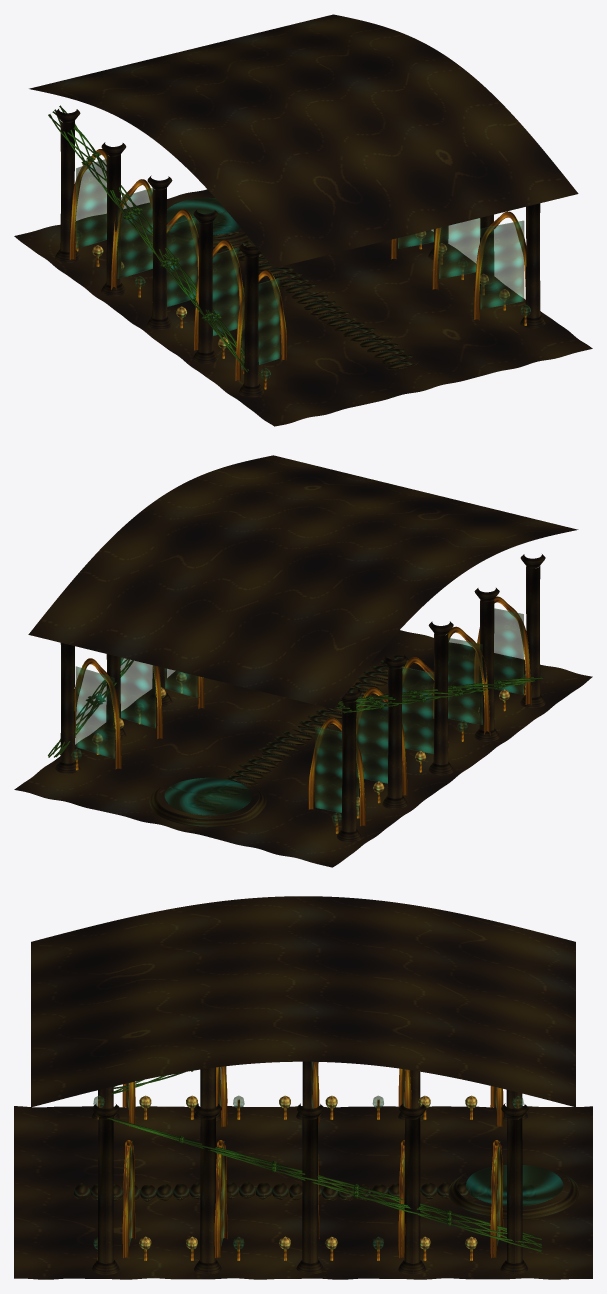
File: shadow-hall-hero-v2.glb
The picture shows the model from 3 angles, top to bottom: view 1: azimuth 30°, elevation 25°; view 2: azimuth 150°, elevation 25°; view 3: azimuth 270°, elevation 25°; orthographic projection. The views are drawn at different scales.
Parts seen in each view (by area): view 1: shadow-vault, shadow-basalt-floor, shadow-memory-glass-right-4, shadow-memory-glass-left-1, shadow-memory-glass-left-0, shadow-memory-glass-left-2, shadow-memory-glass-left-4, shadow-memory-glass-right-3, shadow-memory-glass-left-3, shadow-left-column-4-shaft, shadow-left-column-2-shaft, shadow-left-column-3-shaft (+11 smaller); view 2: shadow-vault, shadow-basalt-floor, shadow-memory-glass-right-0, shadow-basin-water, shadow-memory-glass-left-3, shadow-memory-glass-left-0, shadow-memory-glass-left-2, shadow-memory-glass-left-1, shadow-memory-glass-left-4, shadow-memory-glass-right-1, shadow-left-column-1-shaft, shadow-left-column-2-shaft (+12 smaller); view 3: shadow-vault, shadow-basalt-floor, shadow-right-column-1-shaft, shadow-right-column-4-shaft, shadow-right-column-0-shaft, shadow-right-column-2-shaft, shadow-right-column-3-shaft, shadow-basin-water, shadow-basin, shadow-memory-frame-right-4, shadow-memory-frame-right-0, shadow-memory-frame-right-3 (+11 smaller).
Part boxes in pixels (x1,y1,x2,y2): shadow-vault: (29, 14, 578, 268); shadow-basalt-floor: (14, 189, 592, 426); shadow-memory-glass-right-4: (480, 220, 524, 309); shadow-memory-glass-left-1: (117, 188, 154, 278); shadow-memory-glass-left-0: (76, 159, 106, 248); shadow-memory-glass-left-2: (166, 218, 197, 306); shadow-memory-glass-left-4: (241, 278, 280, 369); shadow-memory-glass-right-3: (439, 218, 480, 278); shadow-memory-glass-left-3: (212, 247, 238, 335); shadow-left-column-4-shaft: (244, 255, 258, 386); shadow-left-column-2-shaft: (152, 188, 167, 319); shadow-left-column-3-shaft: (198, 222, 213, 353); shadow-vault: (28, 455, 578, 709); shadow-basalt-floor: (14, 630, 592, 867); shadow-memory-glass-right-0: (75, 666, 114, 758); shadow-basin-water: (164, 777, 252, 815); shadow-memory-glass-left-3: (448, 638, 482, 724); shadow-memory-glass-left-0: (315, 727, 358, 815); shadow-memory-glass-left-2: (400, 667, 434, 753); shadow-memory-glass-left-1: (356, 697, 388, 783); shadow-memory-glass-left-4: (494, 608, 523, 694); shadow-memory-glass-right-1: (120, 657, 155, 728); shadow-left-column-1-shaft: (387, 667, 402, 798); shadow-left-column-2-shaft: (433, 633, 448, 764); shadow-vault: (31, 896, 575, 1107); shadow-basalt-floor: (14, 1106, 592, 1279); shadow-right-column-1-shaft: (404, 1117, 420, 1263); shadow-right-column-4-shaft: (98, 1117, 113, 1263); shadow-right-column-0-shaft: (507, 1117, 522, 1263); shadow-right-column-2-shaft: (302, 1117, 317, 1263); shadow-right-column-3-shaft: (200, 1117, 215, 1263); shadow-basin-water: (466, 1165, 563, 1206); shadow-basin: (448, 1170, 578, 1219); shadow-memory-frame-right-4: (122, 1140, 135, 1258); shadow-memory-frame-right-0: (490, 1140, 503, 1257); shadow-memory-frame-right-3: (214, 1140, 227, 1257).
Size of the model in its own units: 12 by 7.03 by 17.
7 materials, 7 textured.
